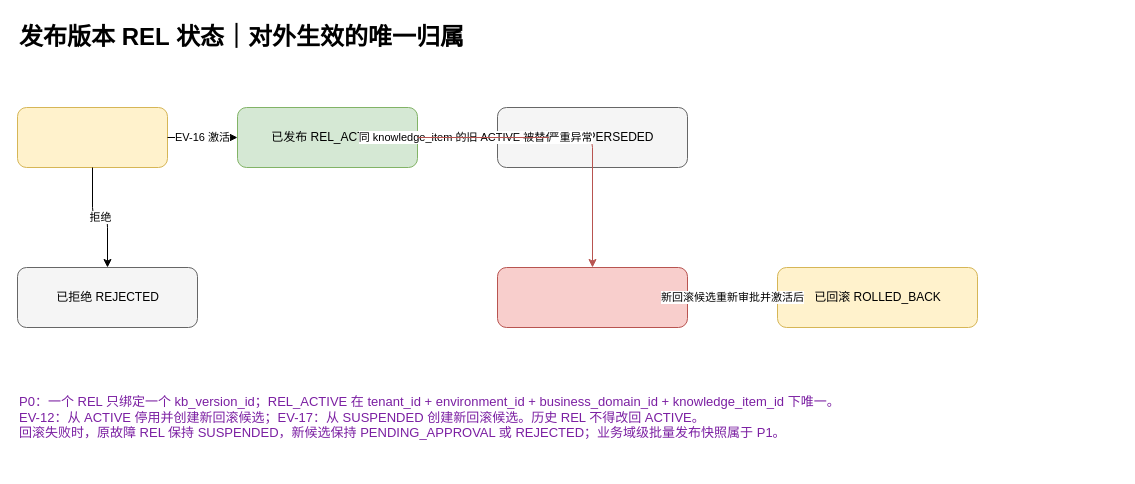
Some shapes in this 1135 by 484 pixel diagram are drawn without their labels. Here are the shapes that lost their labels. From the top down, the centre of each, then its label:
At point (92, 137): "待批准".
At point (592, 297): "已停用 SUSPENDED".
